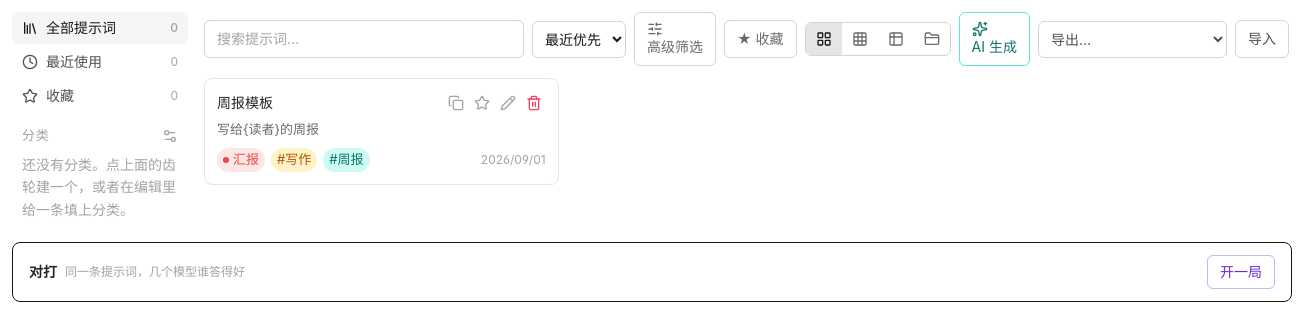
Test: PromptLibrary · 视图 › 默认是卡片；切到表格与文件夹会换一屏
Expected: the button "周报模板" is shown, [217, 93, 440, 113]
Expected: the list is shown, [204, 78, 559, 185]
Click the button titled "表格": [896, 39] box [878, 23, 914, 55]
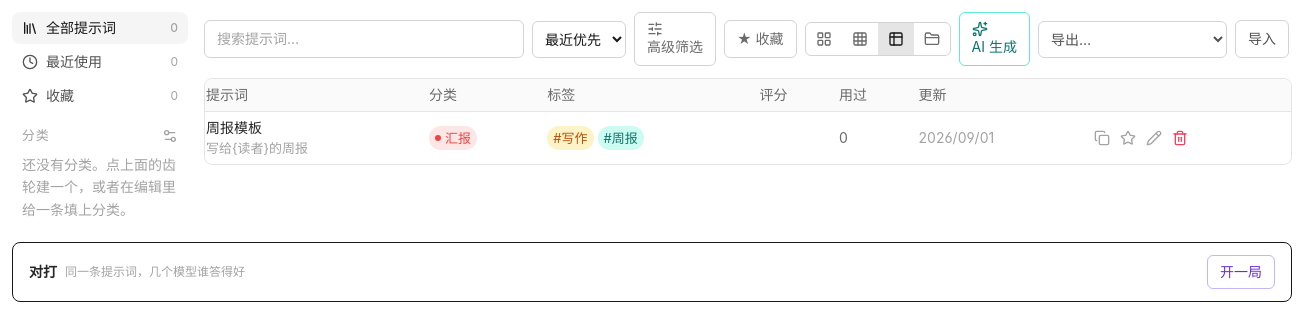
Expected: the element showing "提示词 分类 标签 评分 用过 更新 周报模板 写给{读者}的周报 汇报 #写作 #周报 0 2026/09/01" is shown, [204, 78, 1292, 165]
Expected: the column heading "提示词" is shown, [205, 79, 428, 112]
Click the button titled "文件夹": [932, 39] box [914, 23, 950, 55]
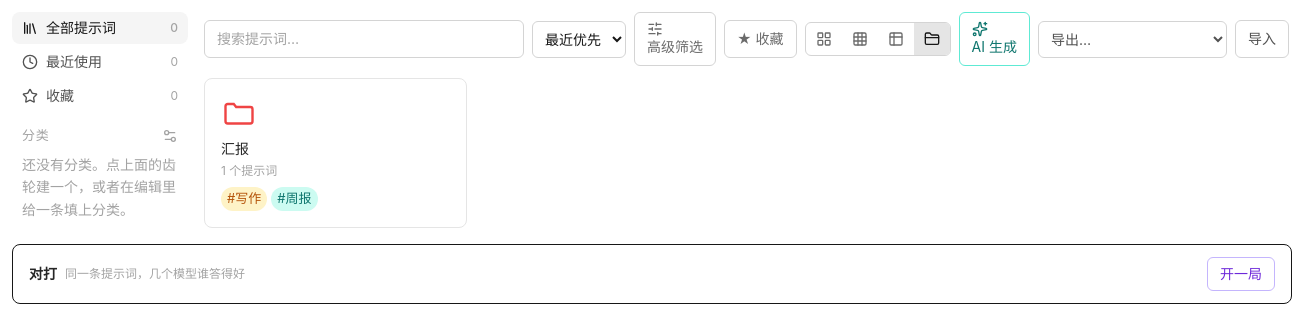
Expected: the element showing "汇报 1 个提示词 #写作 #周报" is shown, [204, 78, 467, 228]
Expected: the text "1 个提示词" is shown, [221, 163, 277, 179]
Click the button titled "网格": [860, 39] box [842, 23, 878, 55]
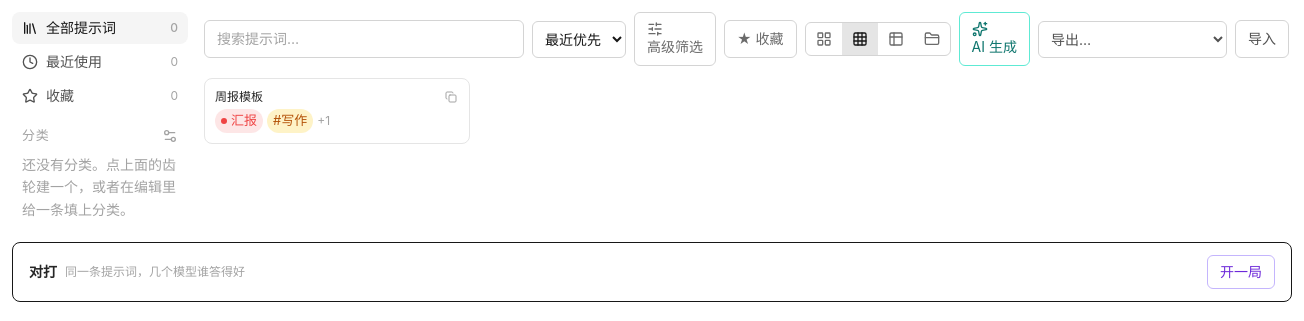
Expected: the list is shown, [204, 78, 470, 144]
